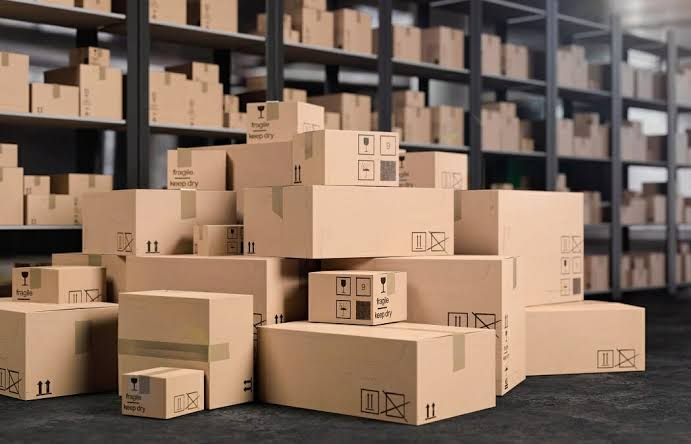box: (258, 322, 495, 424), (353, 256, 525, 395), (118, 290, 254, 418), (244, 185, 453, 258), (455, 190, 583, 305), (0, 300, 117, 399), (81, 190, 235, 254), (525, 301, 645, 376), (125, 255, 306, 302), (201, 138, 292, 222), (292, 130, 398, 186), (308, 271, 406, 324), (44, 65, 122, 119), (12, 266, 105, 303), (247, 101, 323, 143), (399, 152, 467, 189), (167, 148, 225, 190), (308, 93, 370, 130), (149, 71, 190, 124), (421, 26, 464, 68), (0, 52, 29, 111), (334, 8, 372, 53), (186, 80, 222, 127), (30, 83, 79, 115), (187, 0, 237, 31), (50, 173, 112, 196), (394, 107, 431, 143), (0, 167, 23, 224), (431, 105, 463, 145), (165, 62, 219, 82), (392, 25, 421, 61), (501, 43, 529, 78), (620, 121, 645, 160), (149, 0, 186, 24), (584, 256, 610, 290), (481, 108, 502, 150), (481, 33, 501, 75), (620, 192, 646, 224), (69, 47, 109, 66), (644, 254, 666, 286), (557, 48, 575, 86), (500, 116, 520, 150), (573, 112, 599, 137), (556, 119, 574, 155), (238, 86, 267, 108), (634, 68, 654, 99), (591, 124, 609, 158), (583, 191, 602, 223), (392, 90, 425, 108), (644, 135, 666, 161), (645, 195, 665, 223), (483, 101, 516, 117), (620, 62, 635, 97), (24, 175, 49, 194), (223, 112, 247, 131), (572, 60, 588, 88), (283, 0, 326, 10), (588, 64, 605, 89), (0, 143, 17, 167), (75, 1, 111, 12), (573, 136, 592, 156), (653, 72, 666, 100), (223, 94, 239, 112), (555, 173, 569, 191), (283, 13, 291, 42), (519, 137, 534, 151), (40, 0, 74, 6)
